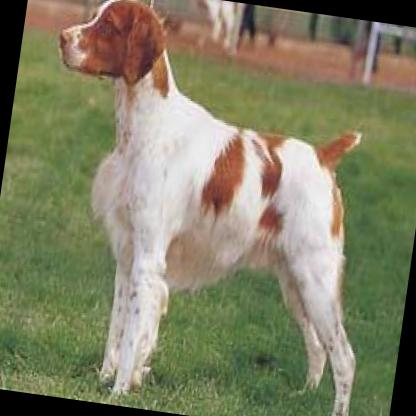Brittany_spaniel: (3, 0, 405, 416)
